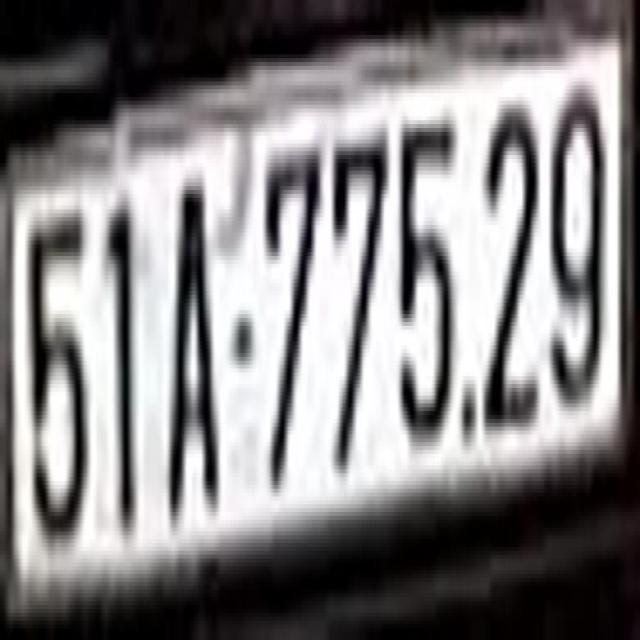1: (107, 194, 138, 558)
2: (481, 97, 540, 438)
5: (397, 105, 457, 465), (27, 202, 89, 539)
7: (263, 124, 320, 500), (328, 105, 387, 465)
9: (548, 81, 602, 415)
A: (164, 159, 224, 516)
